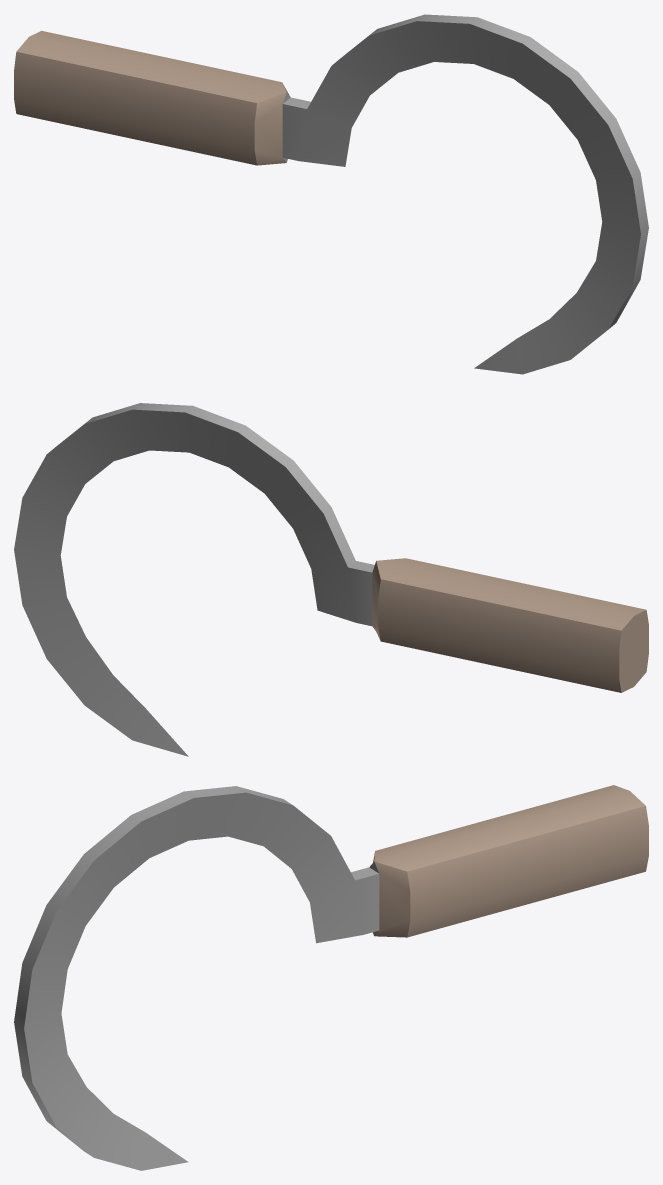
File: Casanga_MDL.fbx
3 views of the same model, one above another, from view 1: azimuth 30°, elevation 25°; view 2: azimuth 210°, elevation 25°; view 3: azimuth 270°, elevation 25° (orthographic). The views are drawn at different scales.
Visible parts, largest first — view 1: pasted__pPipe1; view 2: pasted__pPipe1; view 3: pasted__pPipe1.
Part boxes in pixels (x1,y1,x2,y2): pasted__pPipe1: (14,14,648,374); pasted__pPipe1: (14,403,648,756); pasted__pPipe1: (14,785,648,1170).
Size of the model in its own units: 8.1 by 7.54 by 11.81.
